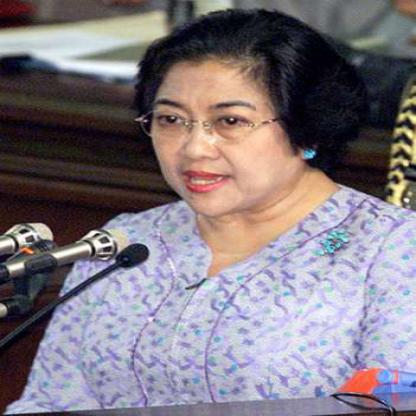face: (149, 32, 305, 220)
